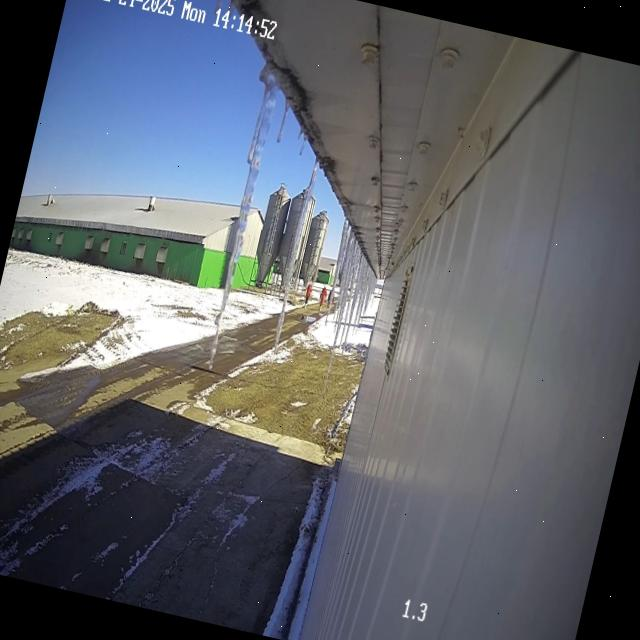Red uniform: (304, 283, 312, 305), (319, 286, 326, 308)
